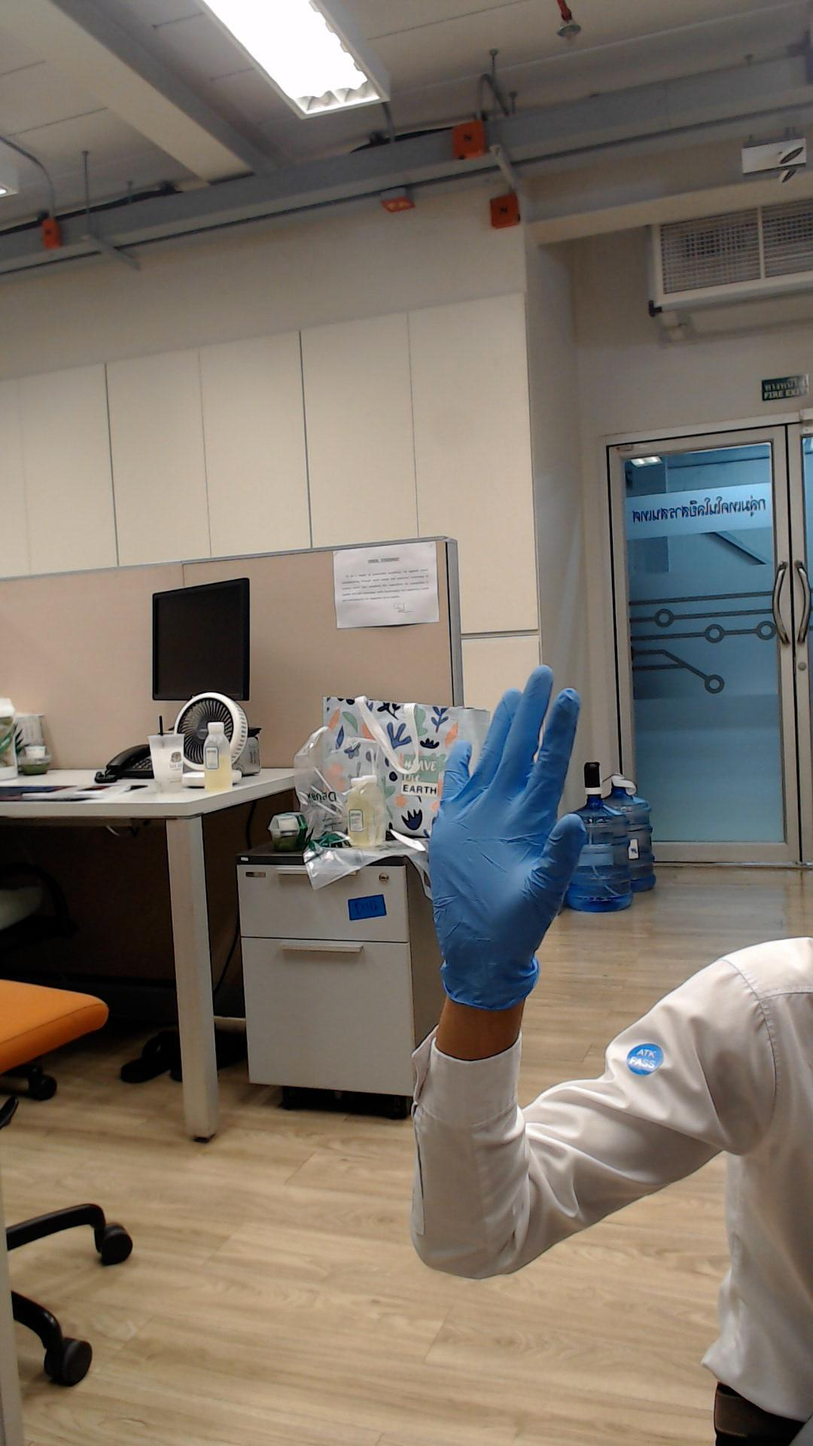gloves: (412, 636, 603, 937)
